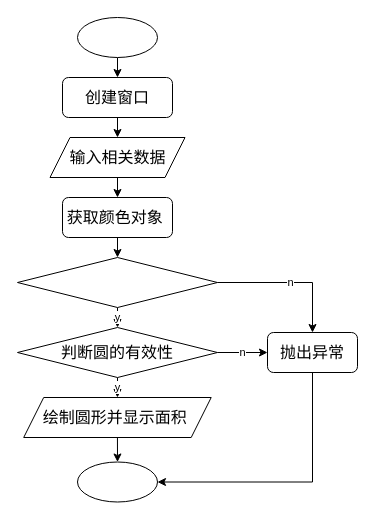
Some shapes in this 375 by 520 pixel diagram are drawn without their labels. The shapes that lost their labels are listed below. From the top down, each one's centre as x and y in pixels, then its label:
[117,37]: 开始
[117,282]: 判断颜色是否合法
[117,481]: 结束
